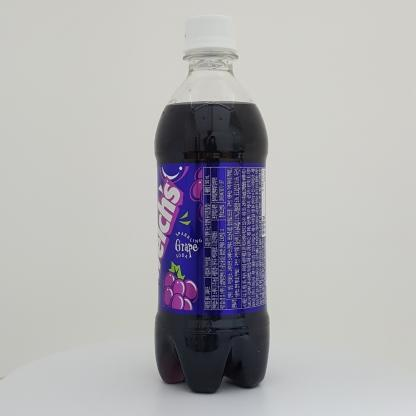-------500ml: (154, 14, 270, 393)
